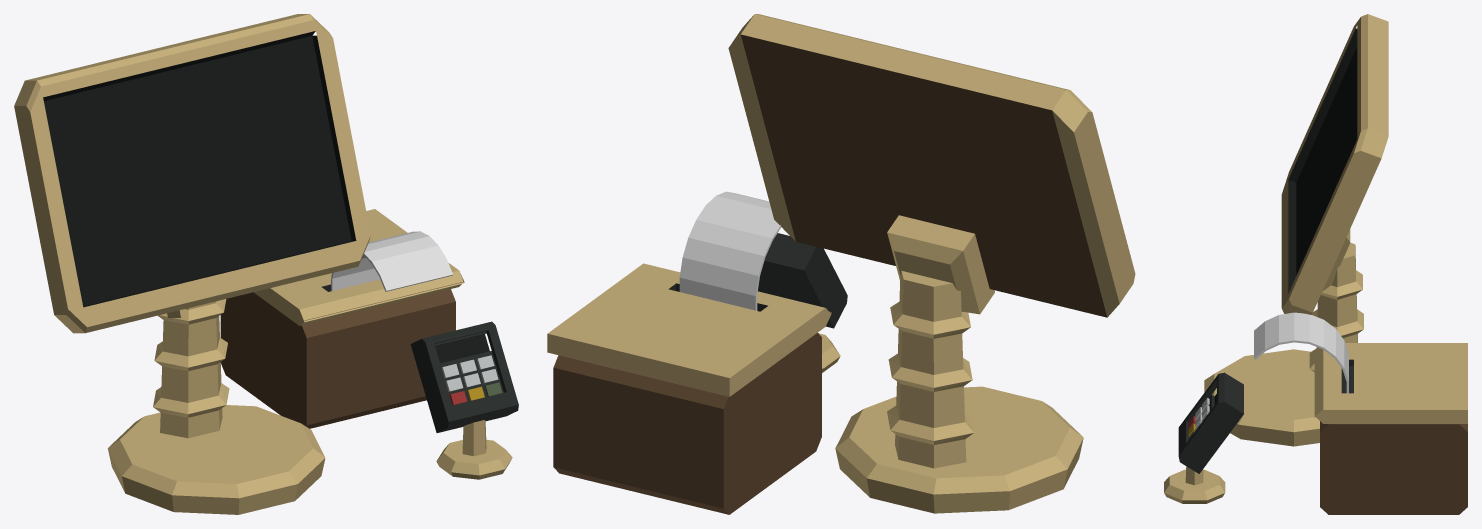
The model's file is pos-terminal-f1273c.glb.
The picture shows the model from 3 angles, left to right: view 1: azimuth 30°, elevation 25°; view 2: azimuth 150°, elevation 25°; view 3: azimuth 270°, elevation 25°; orthographic projection. The views are drawn at different scales.
Parts seen in each view (by area): view 1: screen-mesh, stand, card-reader-mesh, printer-lid-mesh; view 2: screen-mesh, stand, printer-lid-mesh, card-reader-mesh; view 3: stand, screen-mesh, printer-lid-mesh, card-reader-mesh.
Part boxes in pixels (<box>): screen-mesh: <box>14,14,370,333</box>; stand: <box>107,284,455,514</box>; card-reader-mesh: <box>410,321,518,479</box>; printer-lid-mesh: <box>253,209,464,325</box>; screen-mesh: <box>728,14,1135,317</box>; stand: <box>553,271,1083,514</box>; printer-lid-mesh: <box>547,191,831,396</box>; card-reader-mesh: <box>758,233,847,372</box>; stand: <box>1204,243,1467,514</box>; screen-mesh: <box>1281,14,1388,314</box>; printer-lid-mesh: <box>1254,312,1467,423</box>; card-reader-mesh: <box>1164,372,1243,503</box>.
Bounding box in the file's own units: 0.4685 × 0.4274 × 0.3491.
